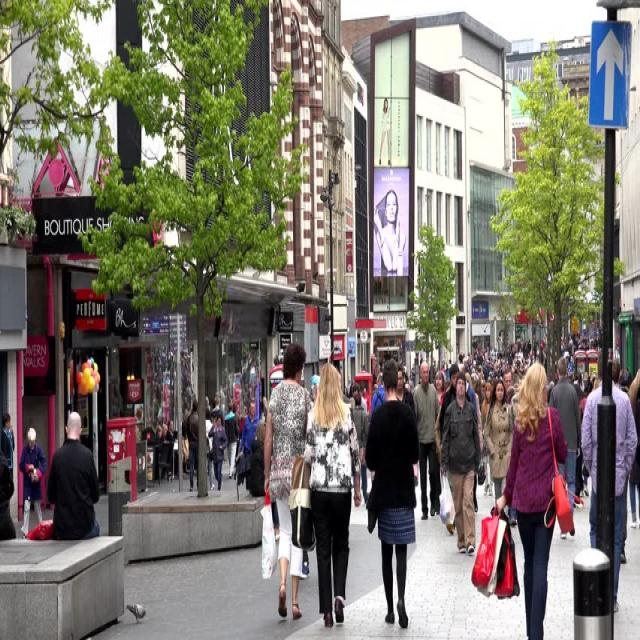body: (467, 358, 585, 638), (342, 331, 608, 417), (579, 347, 639, 620), (302, 360, 362, 629), (363, 356, 422, 629), (259, 339, 313, 621), (438, 370, 481, 558), (542, 355, 583, 541), (47, 409, 102, 544), (412, 360, 440, 521), (482, 376, 515, 505), (17, 425, 49, 543), (374, 189, 406, 276), (471, 416, 497, 516), (626, 364, 640, 528), (352, 391, 371, 505), (238, 399, 260, 492), (152, 416, 180, 485), (201, 392, 222, 480), (572, 415, 590, 512), (206, 413, 228, 492), (0, 445, 17, 543), (64, 344, 85, 423), (248, 420, 267, 500), (616, 463, 630, 565), (186, 400, 201, 492), (223, 400, 239, 479), (233, 399, 248, 481), (0, 410, 15, 482), (204, 408, 216, 492), (379, 96, 392, 168), (370, 371, 386, 413), (438, 503, 456, 537), (617, 361, 634, 396), (258, 392, 272, 427), (307, 369, 321, 404), (504, 499, 518, 529), (240, 349, 247, 371)
